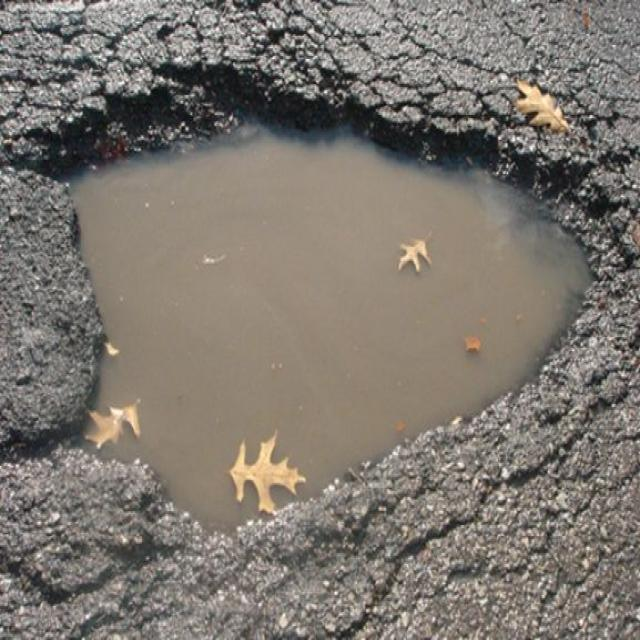pothole: (24, 48, 624, 536)
